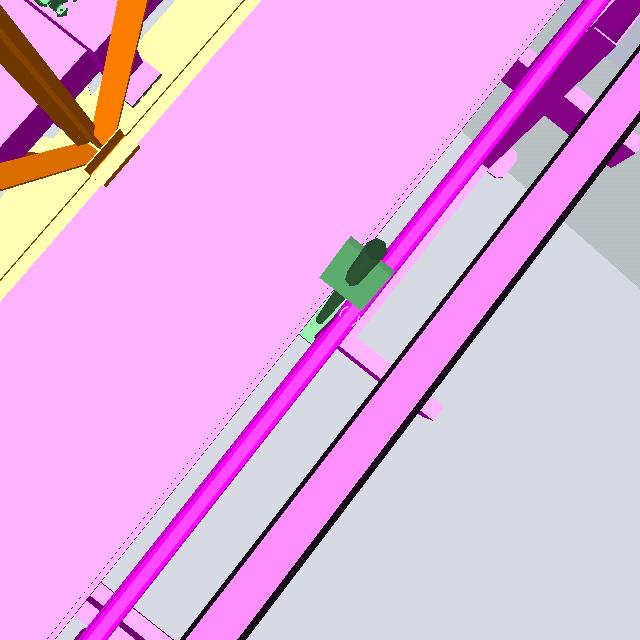Poste: (282, 230, 411, 359)
Soporte: (458, 1, 639, 188)
